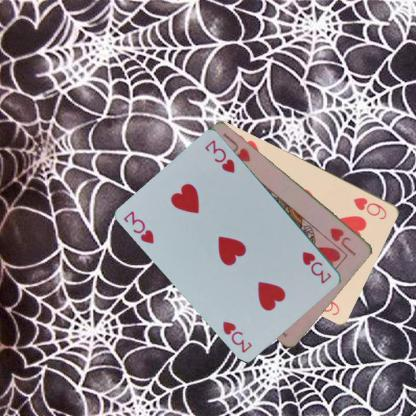3h: (121, 208, 156, 245), (300, 248, 333, 285)
6h: (351, 194, 388, 221)
Jh: (328, 225, 358, 257)
